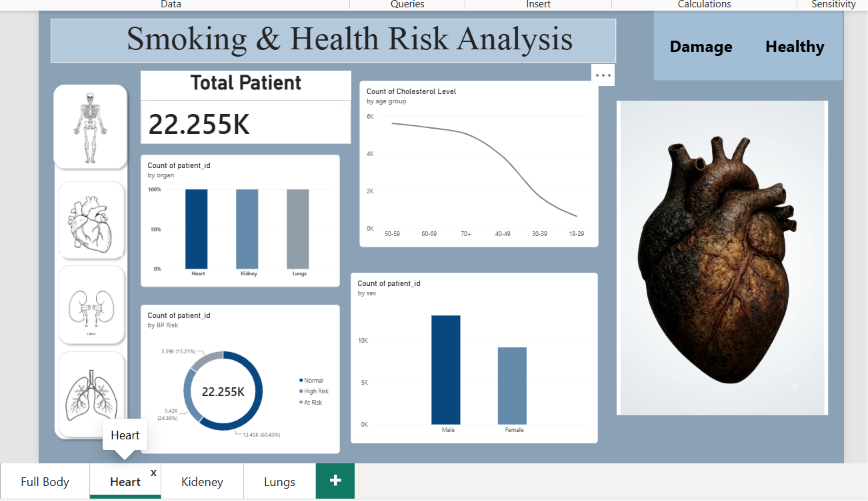

The page's visual inventory and layout, read from the dashboard file:
{"tool":"powerbi","page":{"name":"Heart","canvas":[1920,1080],"ordinal":1},"visuals":[{"type":"actionButton","box":[27.5,167.5,192.5,865],"z":0},{"type":"actionButton","box":[37.5,397.5,175,202.5],"z":1000},{"type":"actionButton","box":[37.5,600,175,205],"z":2000},{"type":"actionButton","box":[37.5,805,175,222.5],"z":3000},{"type":"textbox","box":[27.5,20,1350,105],"z":4000},{"type":"cardVisual","title":"Total Patient","fields":{"Data":["Count(MODS_Clinical_3C_50K (3).patient_id)"]},"box":[242.5,142.5,502.5,175],"z":5000},{"type":"hundredPercentStackedColumnChart","fields":{"Category":["MODS_Clinical_3C_50K (3).organ"],"Y":["Count(MODS_Clinical_3C_50K (3).patient_id)"]},"box":[242.5,342.5,475,315],"z":6000},{"type":"donutChart","fields":{"Category":["MODS_Clinical_3C_50K (3).BP Risk"],"Y":["CountNonNull(MODS_Clinical_3C_50K (3).patient_id)"]},"box":[242.5,702.5,475,355],"z":7000},{"type":"lineChart","fields":{"Category":["MODS_Clinical_3C_50K (3).age group"],"Y":["CountNonNull(MODS_Clinical_3C_50K (3).Cholesterol Level)"]},"box":[765,167.5,570,397.5],"z":8000},{"type":"clusteredColumnChart","fields":{"Category":["MODS_Clinical_3C_50K (3).sex"],"Y":["Count(MODS_Clinical_3C_50K (3).patient_id)"]},"box":[745,625,590,407.5],"z":9000},{"type":"image","box":[1378.1,215.3,504.7,749.7],"z":11000},{"type":"actionButton","box":[1689.9,0,230.1,166.6],"z":13000},{"type":"actionButton","box":[1467.8,0,226.1,166.6],"z":14000},{"type":"actionButton","box":[26.2,167,193.4,219.2],"z":14001}]}

Visuals, with their boxes on the page's 1920x1080 design canvas (x1, y1, x2, y2). These are canvas units, not pixel positions in the 868x501 screenshot, which may show the page scaled, cropped or inside an application window:
actionButton: 28/168/220/1032
actionButton: 38/398/212/600
actionButton: 38/600/212/805
actionButton: 38/805/212/1028
textbox: 28/20/1378/125
"Total Patient" cardVisual: 242/142/745/318
hundredPercentStackedColumnChart - MODS_Clinical_3C_50K (3).organ x Count(MODS_Clinical_3C_50K (3).patient_id): 242/342/718/658
donutChart - MODS_Clinical_3C_50K (3).BP Risk x CountNonNull(MODS_Clinical_3C_50K (3).patient_id): 242/702/718/1058
lineChart - MODS_Clinical_3C_50K (3).age group x CountNonNull(MODS_Clinical_3C_50K (3).Cholesterol Level): 765/168/1335/565
clusteredColumnChart - MODS_Clinical_3C_50K (3).sex x Count(MODS_Clinical_3C_50K (3).patient_id): 745/625/1335/1032
image: 1378/215/1883/965
actionButton: 1690/0/1920/167
actionButton: 1468/0/1694/167
actionButton: 26/167/220/386
